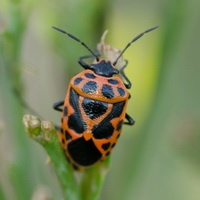insect: (52, 26, 157, 168)
